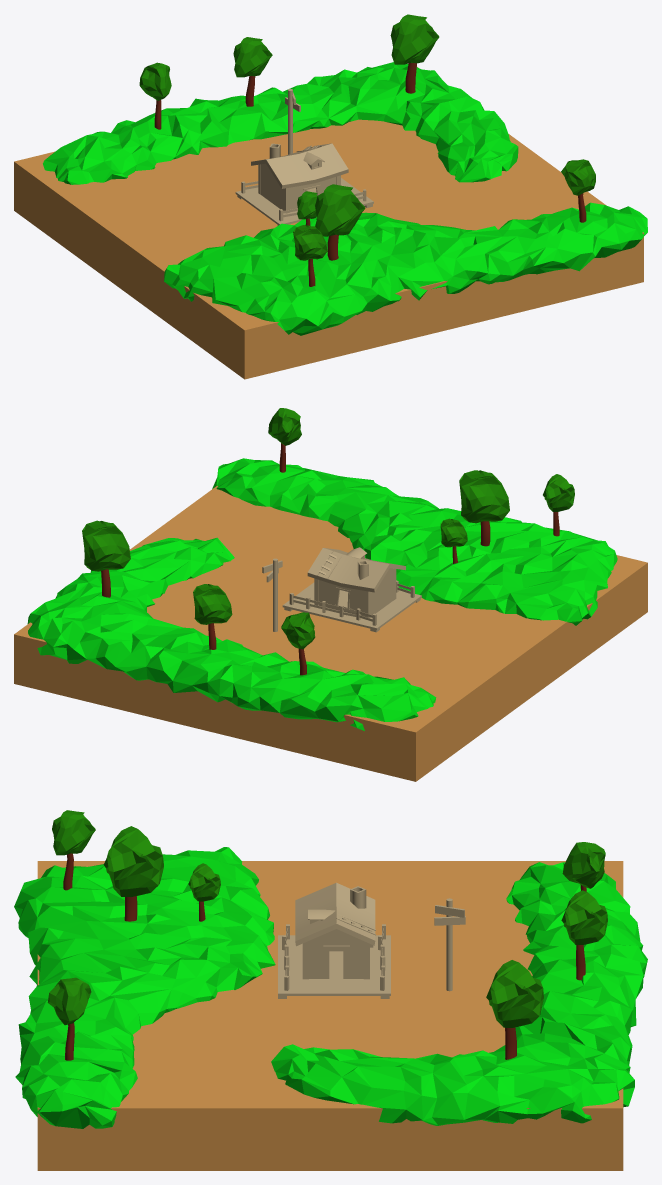
Rendered from Field.dae.
3 renders of one model, top to bottom at view 1: azimuth 30°, elevation 25°; view 2: azimuth 150°, elevation 25°; view 3: azimuth 270°, elevation 25°, orthographic. The views are drawn at different scales.
Visible parts, largest first — view 1: Box065, Object005, Object001, Box069, Box070, Box071, Box001, Box002, Box067, Box066, Box068; view 2: Box065, Object005, Box069, Object001, Box070, Box002, Box001, Box071, Box068, Box066, Box067, Box064; view 3: Box065, Object005, Box002, Object001, Box069, Box070, Box071, Box001, Box066, Box067, Box068, Box064 (+1 smaller).
Part boxes in pixels (x1,y1,x2,y2): Box065: (14,67,643,379); Object005: (43,62,647,335); Object001: (251,143,348,188); Box069: (315,184,365,236); Box070: (390,14,439,64); Box071: (233,37,272,77); Box001: (261,163,336,210); Box002: (235,178,373,225); Box067: (293,225,327,260); Box066: (139,62,171,100); Box068: (561,159,595,195); Box065: (14,486,647,781); Object005: (27,458,617,730); Box069: (459,470,509,523); Object001: (307,547,405,592); Box070: (82,520,130,571); Box002: (282,582,421,629); Box001: (318,568,393,616); Box071: (193,584,232,624); Box068: (268,408,301,445); Box066: (281,612,315,649); Box067: (543,474,574,511); Box064: (440,518,467,547); Box065: (37,861,623,1170); Object005: (14,847,647,1128); Box002: (278,935,390,995); Object001: (295,882,375,946); Box069: (103,826,163,896); Box070: (486,960,543,1027); Box071: (561,890,607,944); Box001: (309,929,363,978); Box066: (562,842,605,888); Box067: (52,810,95,855); Box068: (47,977,91,1025); Box064: (188,863,220,901).
Size of the model in its own units: 259 by 81.92 by 267.
